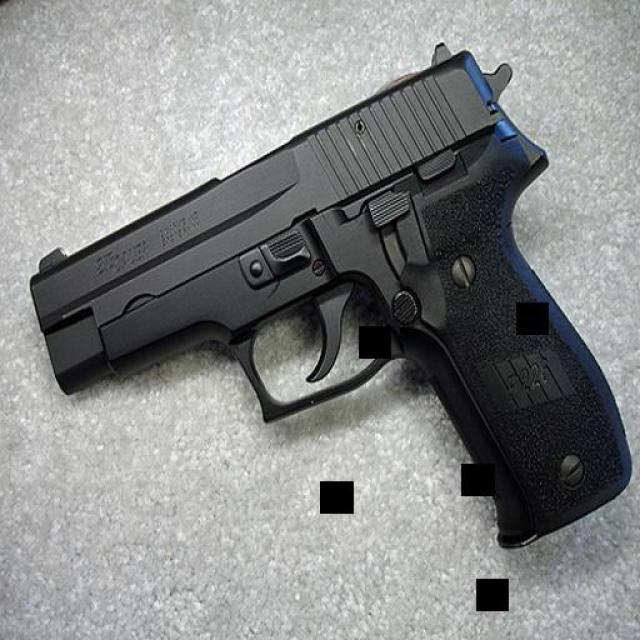gun: (18, 39, 626, 551)
